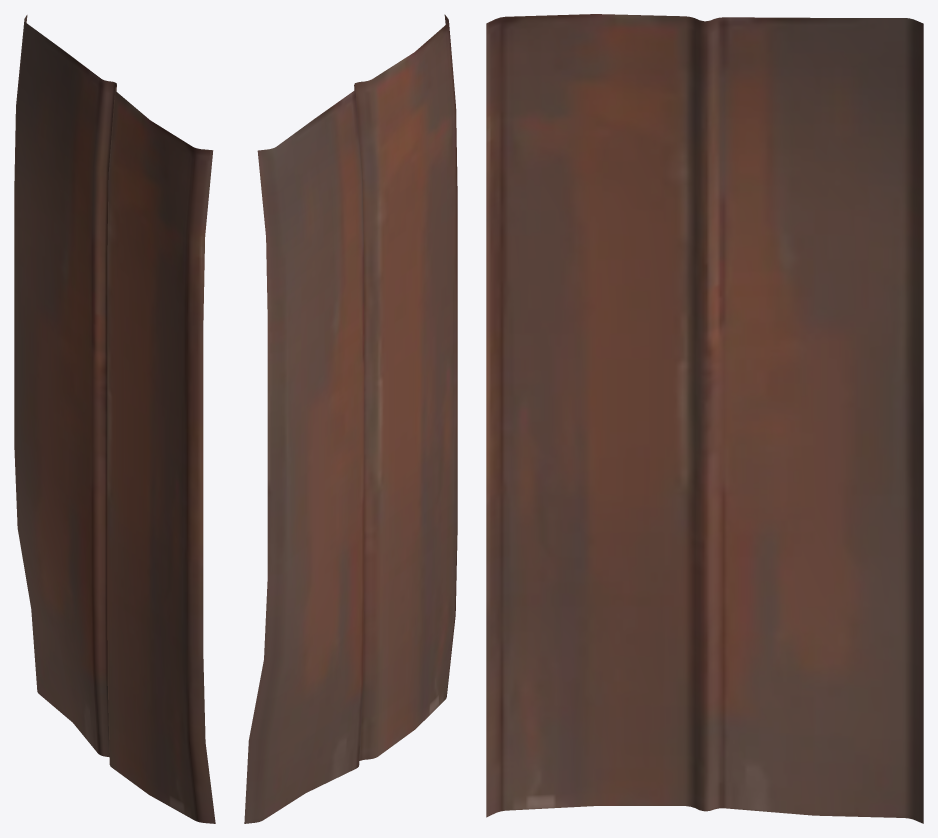
3 renders of one model, left to right at view 1: azimuth 30°, elevation 25°; view 2: azimuth 150°, elevation 25°; view 3: azimuth 270°, elevation 25°, orthographic. The views are drawn at different scales.
Parts seen in each view (by area): view 1: body0_model0_lod0_mesh0; view 2: body0_model0_lod0_mesh0; view 3: body0_model0_lod0_mesh0.
Part boxes in pixels (x1=…): body0_model0_lod0_mesh0: x1=14, y1=15, x2=215, y2=823; body0_model0_lod0_mesh0: x1=244, y1=14, x2=457, y2=823; body0_model0_lod0_mesh0: x1=486, y1=14, x2=923, y2=823.
Size of the model in its own units: 6.63 by 128 by 64.01.
Materials: 1 (1 with a texture image).
